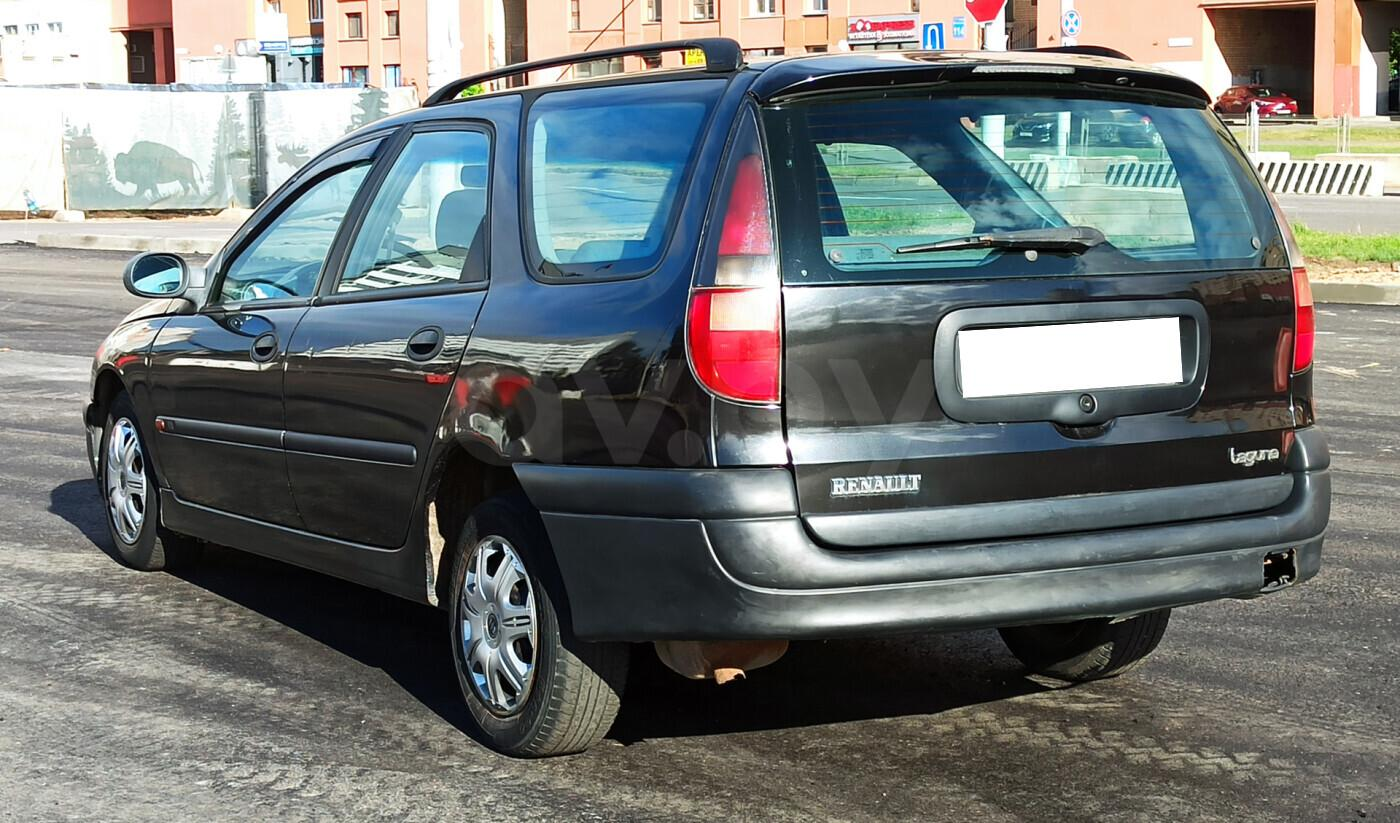Lahuna_1993-1999: (83, 49, 1341, 758)
